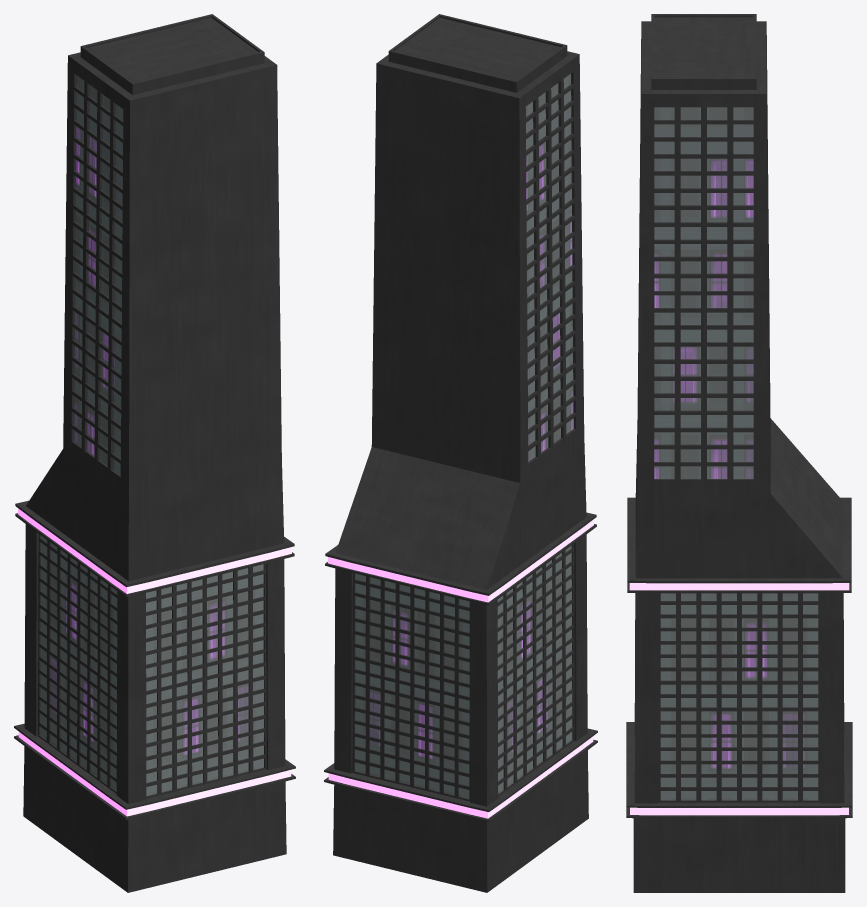
Rendered from Build 11.fbx.
3 renders of one model, left to right at view 1: azimuth 30°, elevation 25°; view 2: azimuth 150°, elevation 25°; view 3: azimuth 270°, elevation 25°, orthographic. The views are drawn at different scales.
Parts seen in each view (by area): view 1: Cube.092; view 2: Cube.092; view 3: Cube.092.
Boxes of the visible parts, x1,y1,x2,y2 form: Cube.092: (14,14,295,892); Cube.092: (324,14,597,892); Cube.092: (626,14,852,892).
Size of the model in its own units: 3747 by 16847 by 4282.
3 materials, 1 textured.
